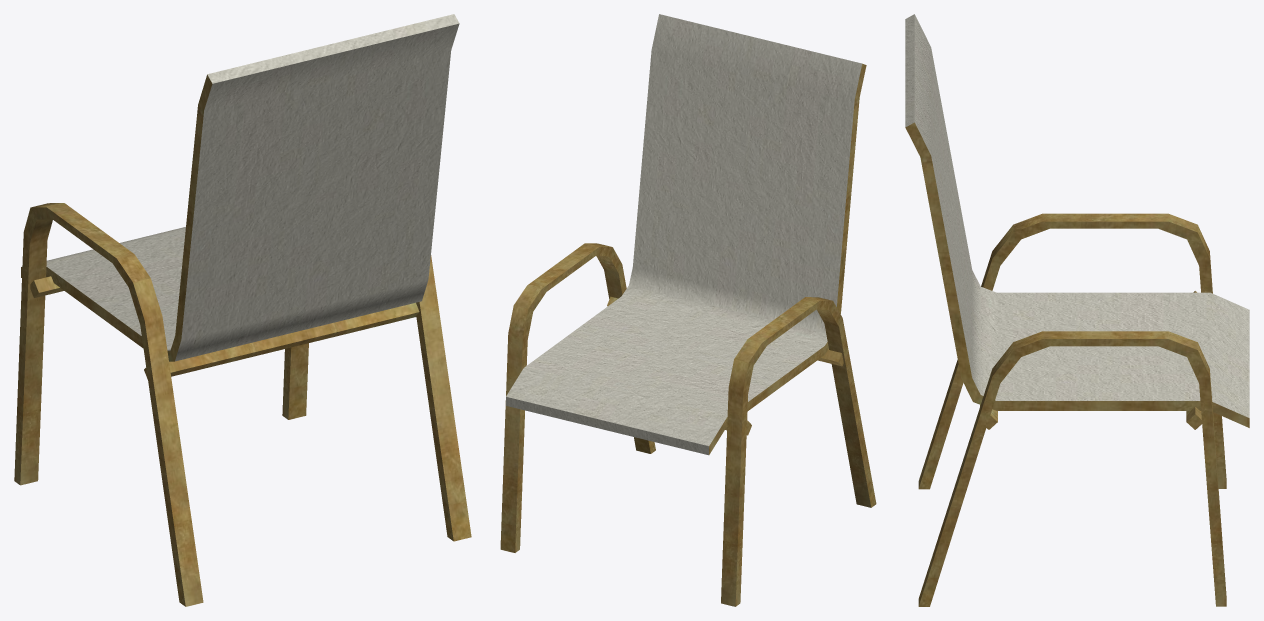
Rendered from Chair_22.glb.
The picture shows the model from 3 angles, left to right: view 1: azimuth 30°, elevation 25°; view 2: azimuth 150°, elevation 25°; view 3: azimuth 270°, elevation 25°; orthographic projection. The views are drawn at different scales.
Parts seen in each view (by area): view 1: Chair_22; view 2: Chair_22; view 3: Chair_22.
Part boxes in pixels (<box>): Chair_22: <box>14,14,471,606</box>; Chair_22: <box>500,14,876,606</box>; Chair_22: <box>905,14,1249,606</box>.
Size of the model in its own units: 0.6311 by 1.12 by 0.7323.
2 materials, 2 textured.
